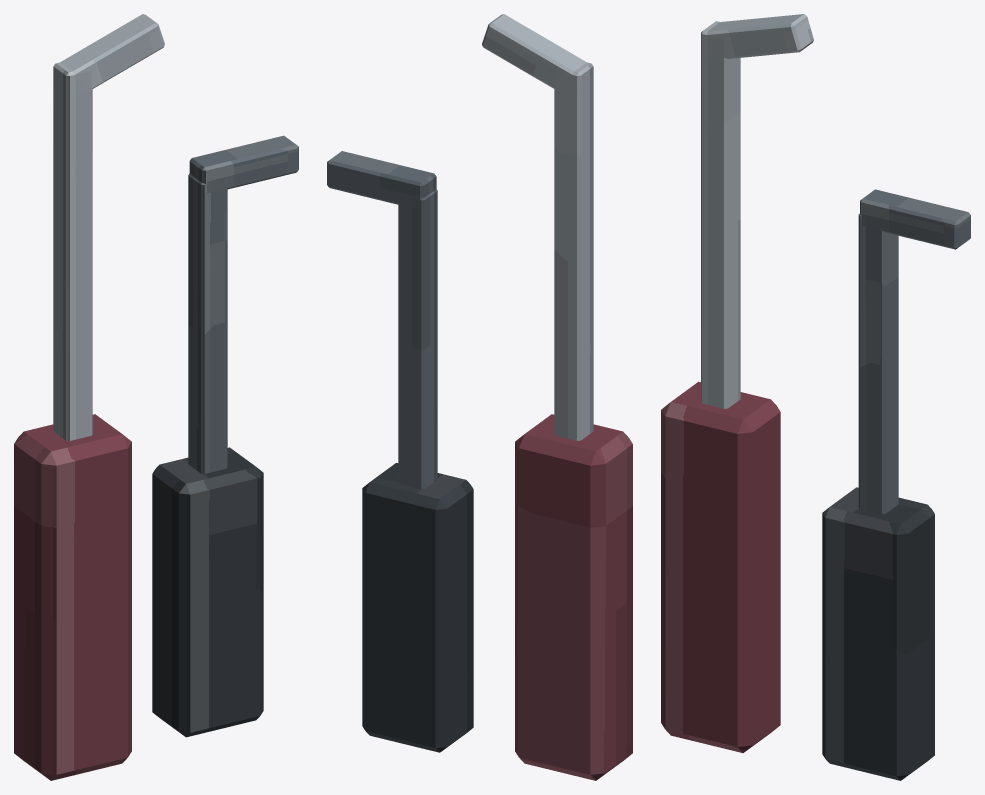
File: lockpick_set.glb
3 views of the same model, side by side, from view 1: azimuth 30°, elevation 25°; view 2: azimuth 150°, elevation 25°; view 3: azimuth 330°, elevation 25° (orthographic).
Parts seen in each view (by area): view 1: PickHandle, TensionHandle, PickShaft, TensionShaft, TensionFoot, PickTip; view 2: PickHandle, TensionHandle, PickShaft, TensionShaft, TensionFoot, PickTip; view 3: PickHandle, TensionHandle, PickShaft, TensionShaft, TensionFoot, PickTip.
Part boxes in pixels (x1,y1,x2,y2): PickHandle: (14,414,131,780); TensionHandle: (152,447,263,737); PickShaft: (53,62,92,440); TensionShaft: (188,174,227,473); TensionFoot: (189,135,298,193); PickTip: (60,14,164,95); PickHandle: (515,414,632,780); TensionHandle: (362,463,473,752); PickShaft: (554,62,593,440); TensionShaft: (398,189,437,489); TensionFoot: (327,151,436,208); PickTip: (482,14,586,95); PickHandle: (661,381,780,752); TensionHandle: (822,487,934,780); PickShaft: (701,21,740,408); TensionShaft: (858,214,898,513); TensionFoot: (860,189,970,249); PickTip: (702,14,813,58).
Size of the model in its own units: 0.2275 by 0.5722 by 0.0675.
1 material, 1 textured.
